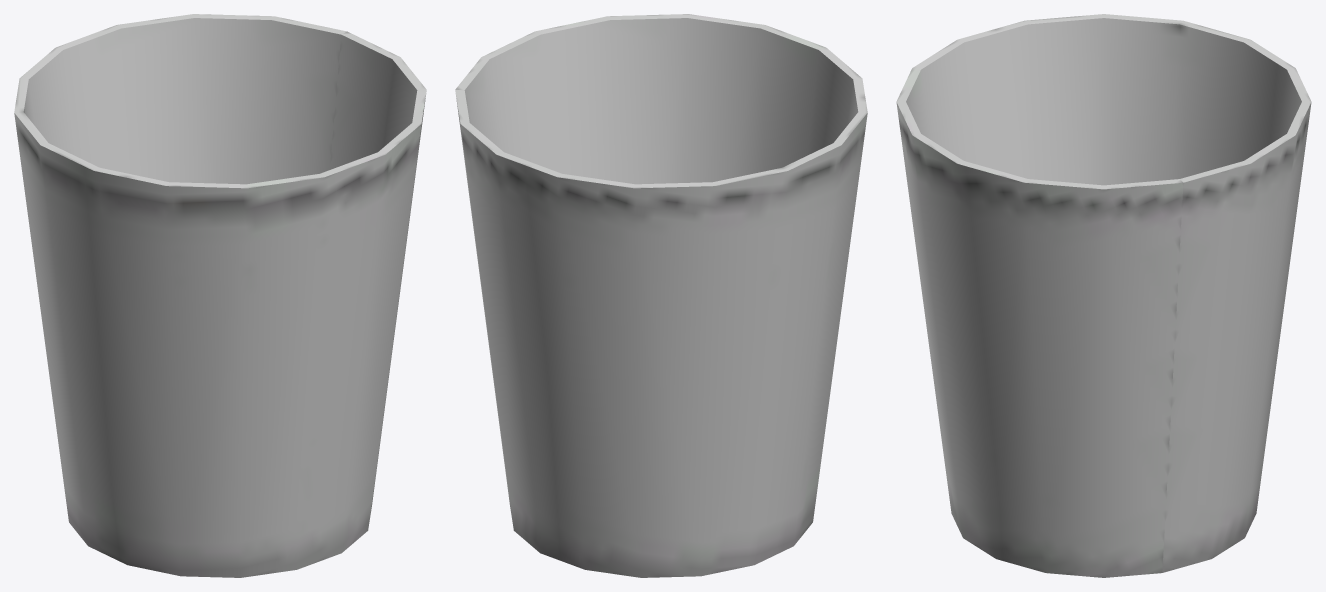
The model's file is 014_PaperCup.fbx.
3 renders of one model, left to right at view 1: azimuth 30°, elevation 25°; view 2: azimuth 150°, elevation 25°; view 3: azimuth 270°, elevation 25°, orthographic.
Visible parts, largest first — view 1: LOD_1_Group_0_Sub_1__sm36_014_PaperCup01A_A_Mat; view 2: LOD_1_Group_0_Sub_1__sm36_014_PaperCup01A_A_Mat; view 3: LOD_1_Group_0_Sub_1__sm36_014_PaperCup01A_A_Mat.
Part boxes in pixels (x1,y1,x2,y2): LOD_1_Group_0_Sub_1__sm36_014_PaperCup01A_A_Mat: [14, 14, 426, 577]; LOD_1_Group_0_Sub_1__sm36_014_PaperCup01A_A_Mat: [455, 14, 867, 577]; LOD_1_Group_0_Sub_1__sm36_014_PaperCup01A_A_Mat: [896, 14, 1311, 577].
Size of the model in its own units: 0.0736 by 0.0805 by 0.0736.
